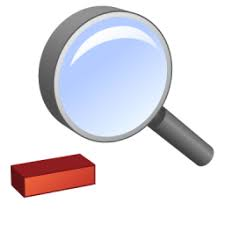searchIcon: (37, 2, 216, 168)
